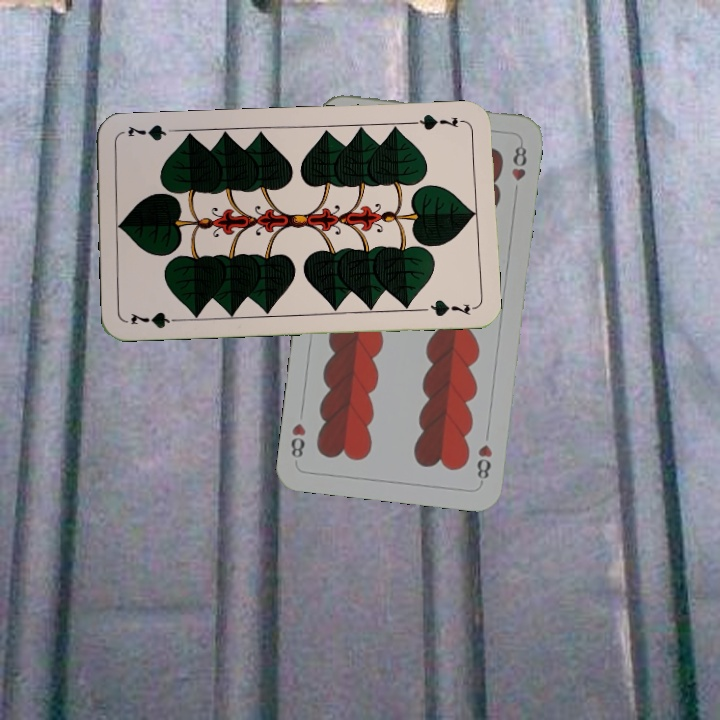G7: (127, 308, 185, 331), (409, 111, 468, 133)
H8: (473, 440, 495, 486)
